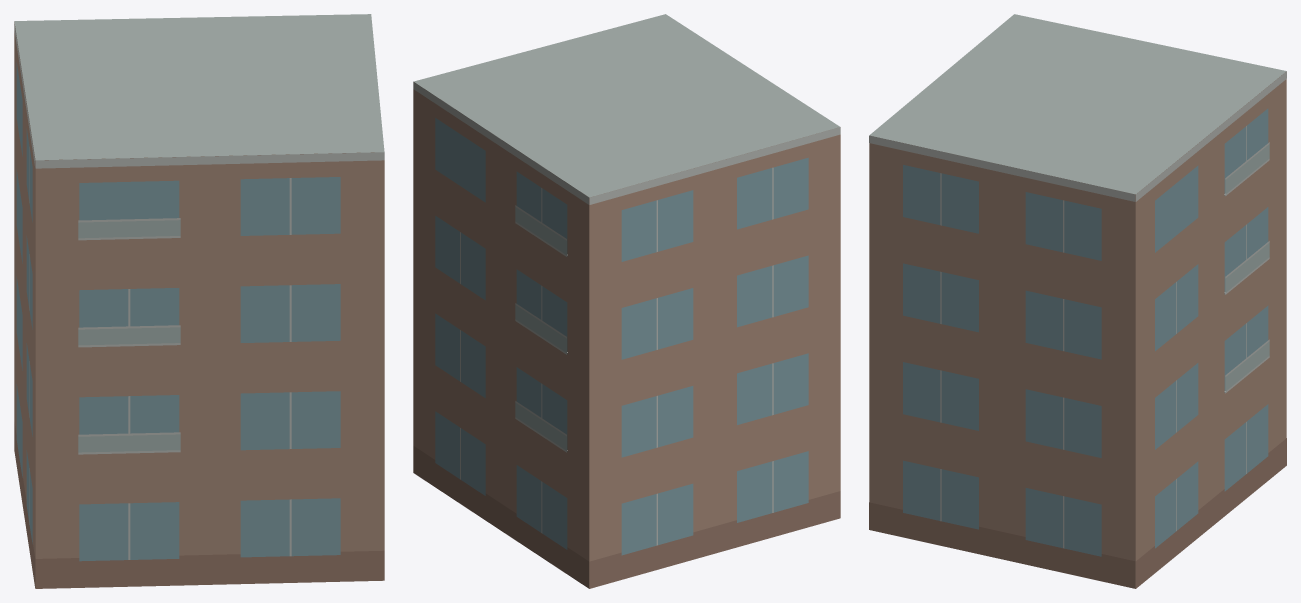
Rendered from survey-upis-32727048.glb.
3 views of the same model, side by side, from view 1: azimuth 30°, elevation 25°; view 2: azimuth 150°, elevation 25°; view 3: azimuth 270°, elevation 25° (orthographic). The views are drawn at different scales.
Parts seen in each view (by area): view 1: survey-upis-32727048.tmp; view 2: survey-upis-32727048.tmp; view 3: survey-upis-32727048.tmp.
Boxes of the visible parts, left/top/right/bottom form: survey-upis-32727048.tmp: left=14, top=14, right=384, bottom=588; survey-upis-32727048.tmp: left=413, top=14, right=840, bottom=588; survey-upis-32727048.tmp: left=869, top=14, right=1286, bottom=588.
Size of the model in its own units: 12.37 by 12.6 by 12.1.
